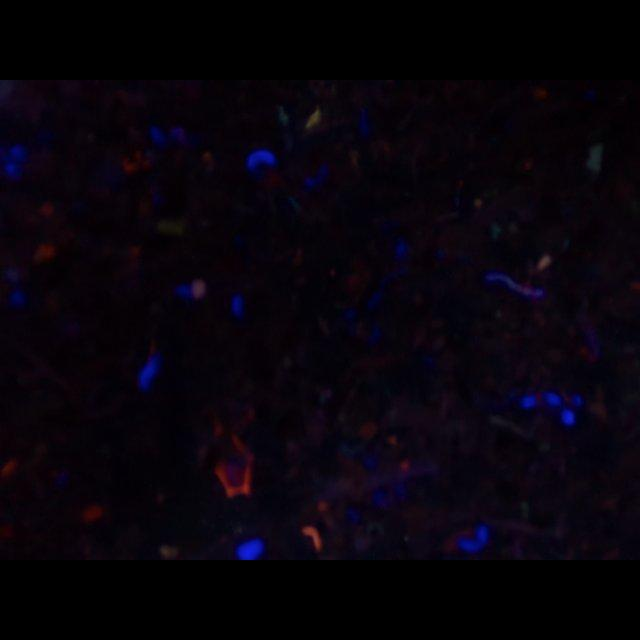Fibre: (584, 134, 604, 180)
